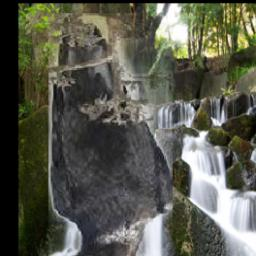Crow: (48, 14, 173, 256)
